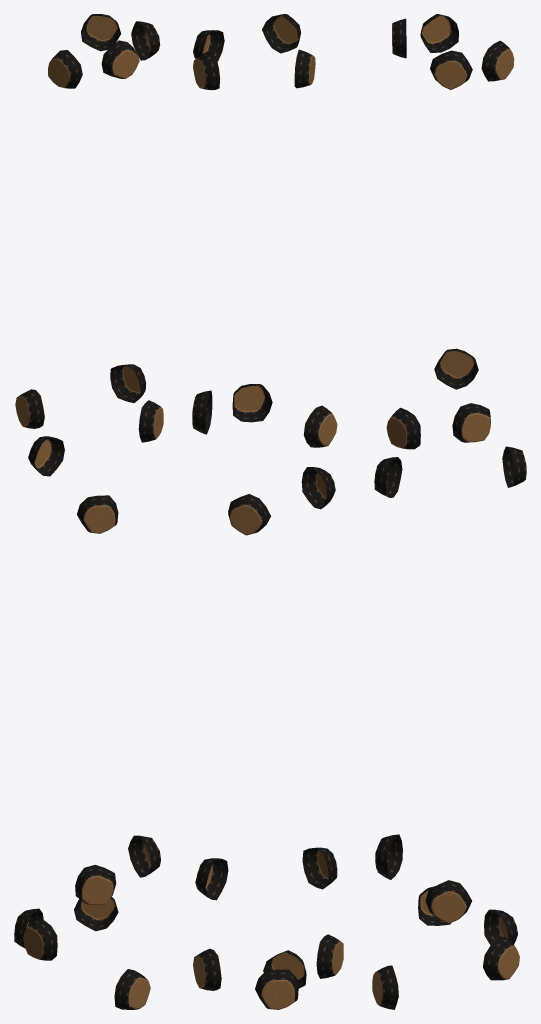
The model's file is Sitka_Young_02_MediumPruned_Recent_LOD1.fbx.
The picture shows the model from 3 angles, left to right: view 1: azimuth 30°, elevation 25°; view 2: azimuth 150°, elevation 25°; view 3: azimuth 270°, elevation 25°; orthographic projection. The views are drawn at different scales.
Parts seen in each view (by area): view 1: Sitka_Young_02_MediumPruned_Recent_LOD1_Scars; view 2: Sitka_Young_02_MediumPruned_Recent_LOD1_Scars; view 3: Sitka_Young_02_MediumPruned_Recent_LOD1_Scars.
Boxes of the visible parts, left/top/right/bottom form: Sitka_Young_02_MediumPruned_Recent_LOD1_Scars: left=14, top=14, right=163, bottom=1009; Sitka_Young_02_MediumPruned_Recent_LOD1_Scars: left=192, top=14, right=343, bottom=1009; Sitka_Young_02_MediumPruned_Recent_LOD1_Scars: left=372, top=14, right=526, bottom=1009.
Size of what is drawn, in the model's own units: 19.18 by 136 by 19.34.
Materials: 2 (2 with a texture image).
